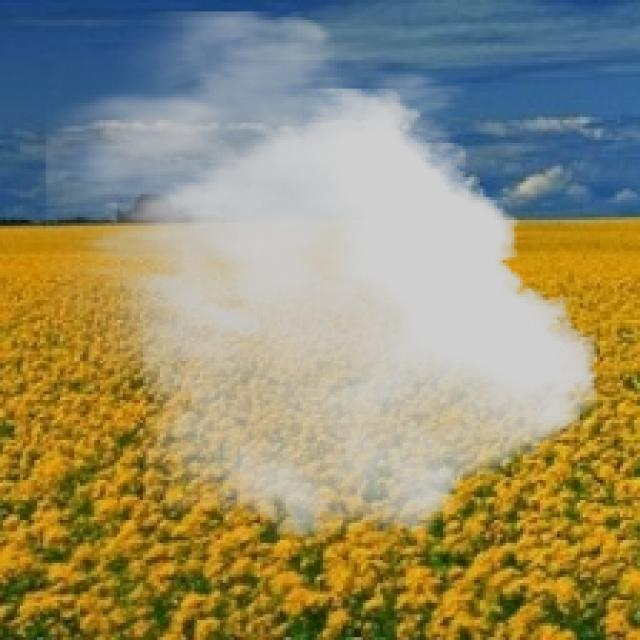Smoke: (45, 11, 598, 540)
